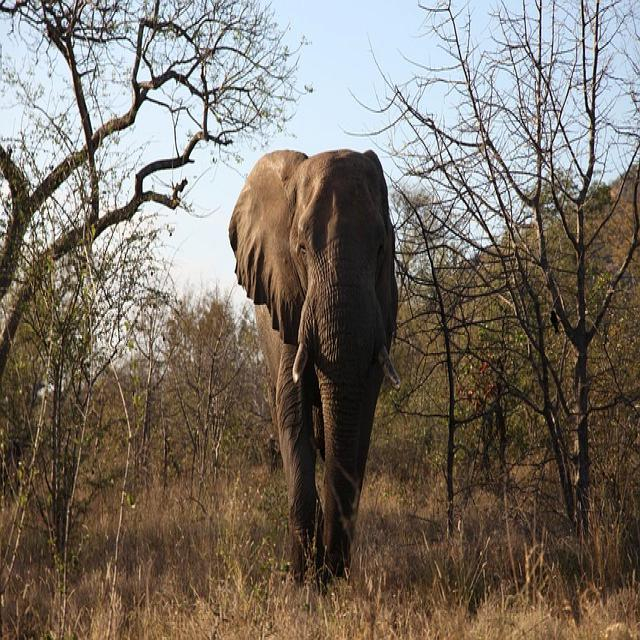FIL: (216, 131, 407, 593)
